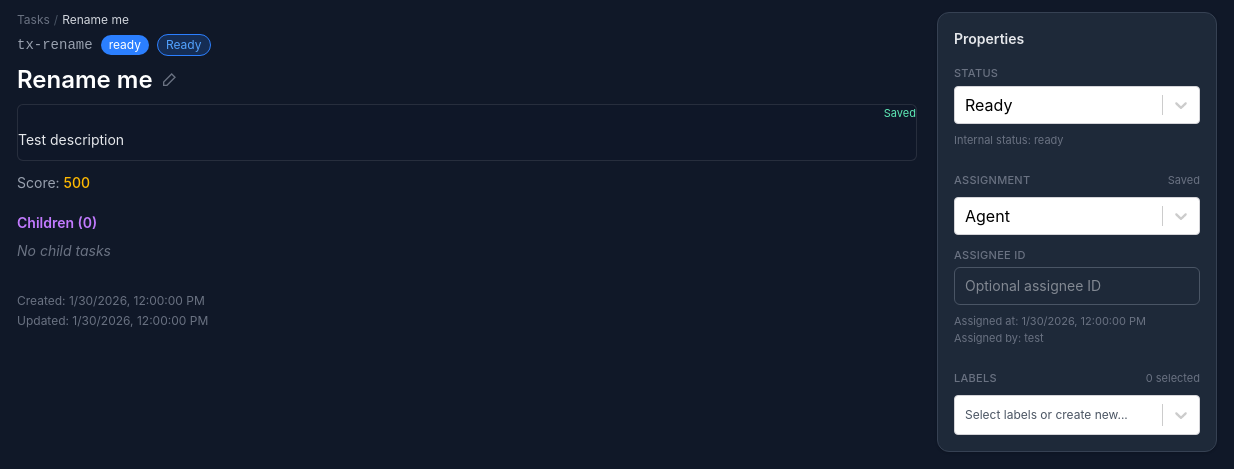
Test: TaskDetail › renames the title through the task API and updates the detail cache
Click the button "Rename me" at (97, 80), box 17,64 -> 177,96
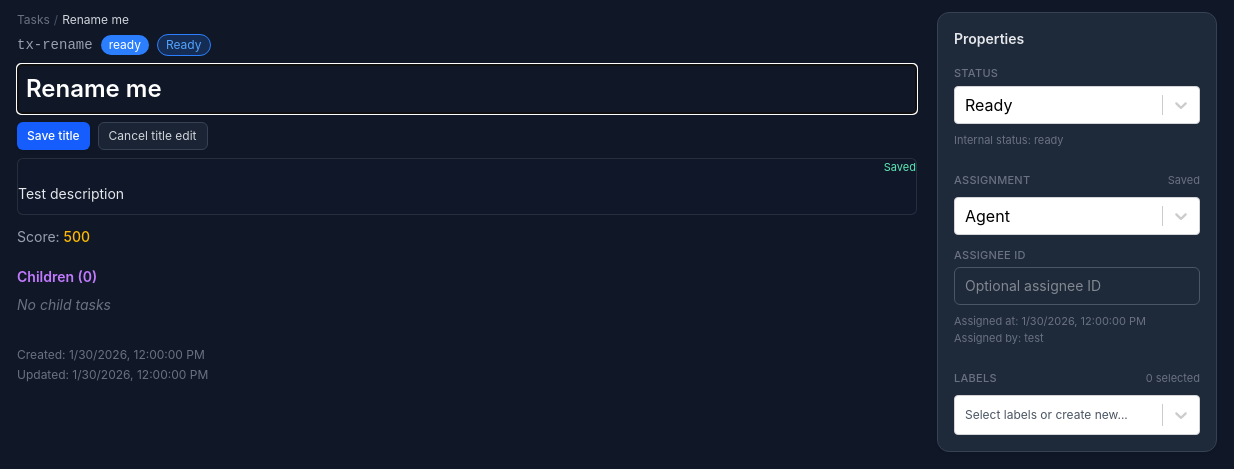
Replace the text in the field named "Task title" with "  Clear title  " at (467, 89), box 17,64 -> 917,114
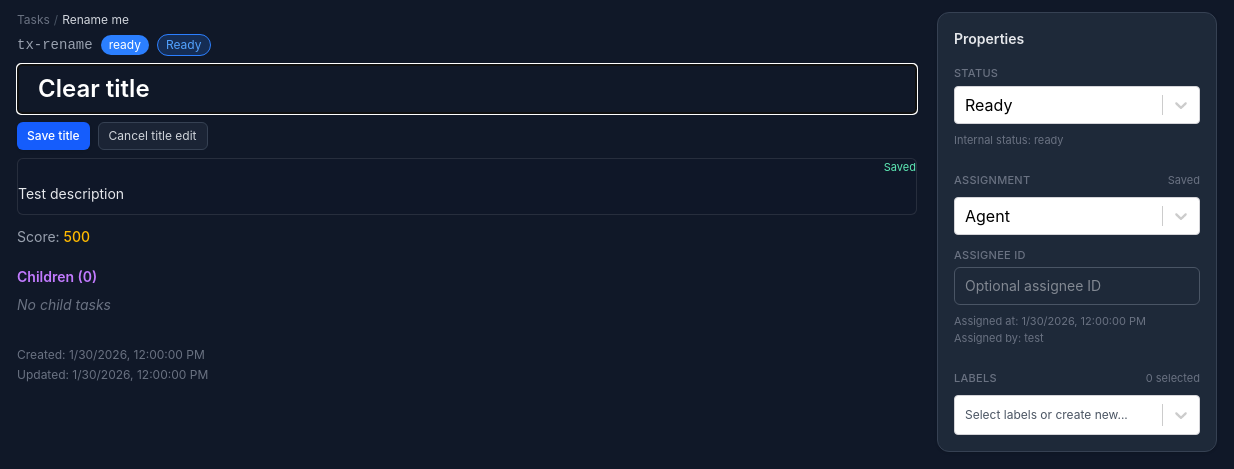
Press Enter in the field named "Task title", box 17,64 -> 917,114
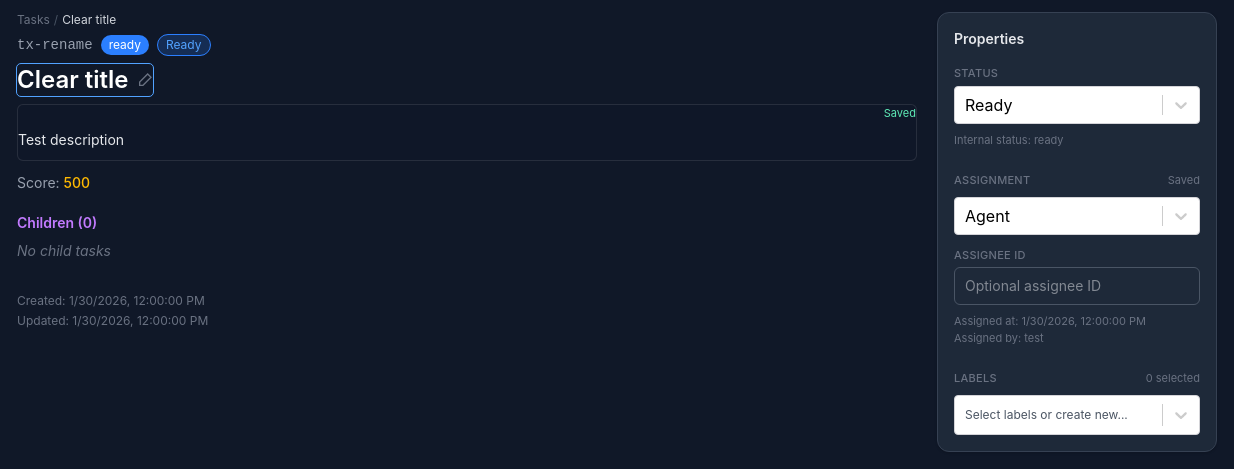
Expected: the heading "Clear title" is shown, 17,64 -> 152,96
Expected: the text "Clear title" is shown, 62,12 -> 116,28
